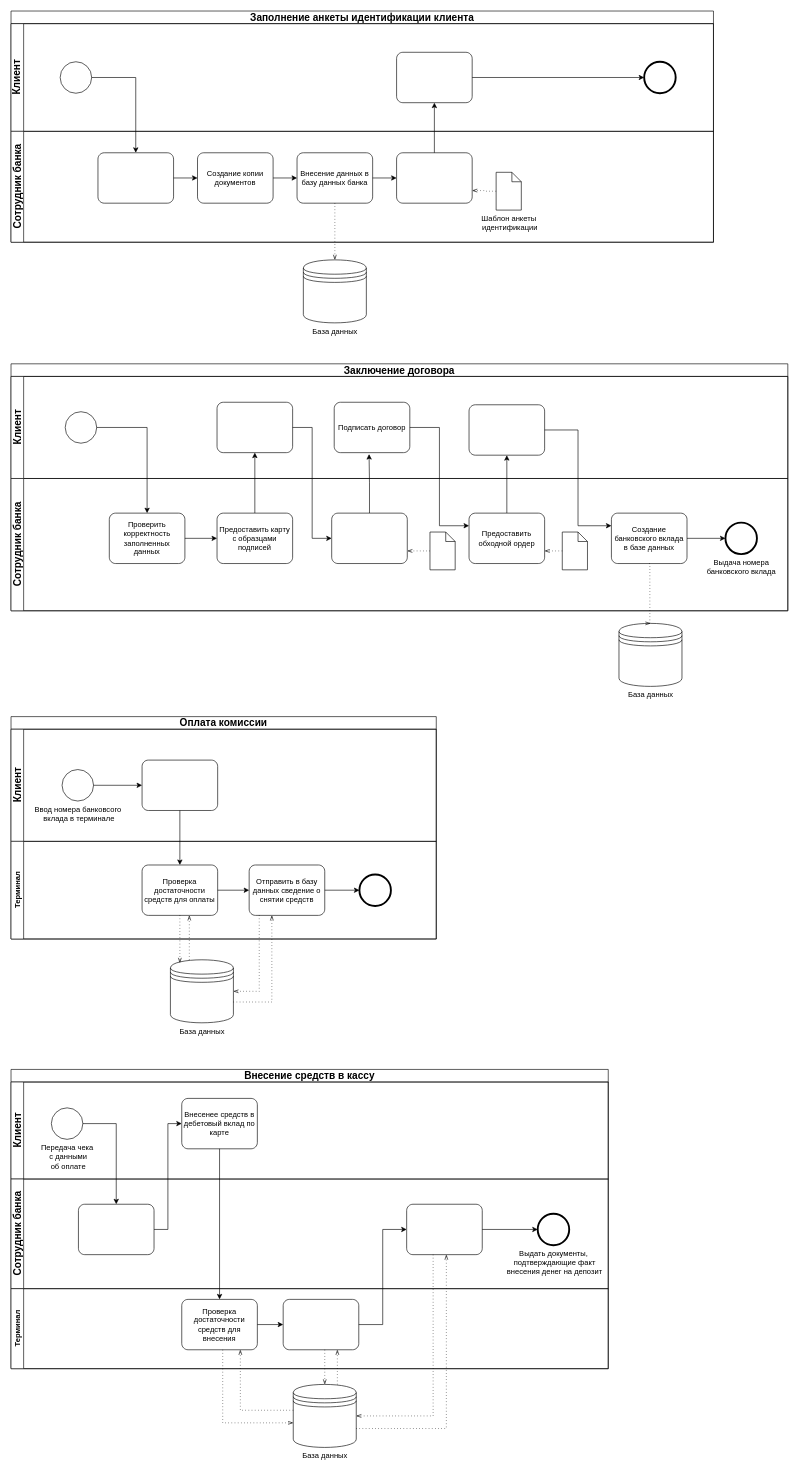
The diagram is 799 pixels wide and 1472 high, and some of its shapes have lost their labels. The shapes that lost their labels are listed below. From the top down, each one's centre as x and y in pixels, then its label:
(76,77): Предъявление документа удостоверяющий личность
(434,77): Заполнение анкеты идентификации
(660,77): Анкета идентификации
(135,177): Подтверждение личности клиента
(434,177): Выдать анкету идентификации
(81,427): Сдать анкету идентифицирования клиента
(254,427): Поставить подпись в карте с образцами подписей
(506,429): Подписать приходной ордер на зачисление средств
(369,538): Предоставить договор
(442,550): Шаблон договора
(574,550): Шаблон ордера
(179,784): Внесение комиссии через карту в устройство оплаты
(375,890): Выдать чек с данными об оплате
(116,1229): Подтверждение договора действительным
(444,1229): Проверить в базе данных открытие дебетового вклада
(321,1324): Отправление в базу данных сведение о переводе средств
